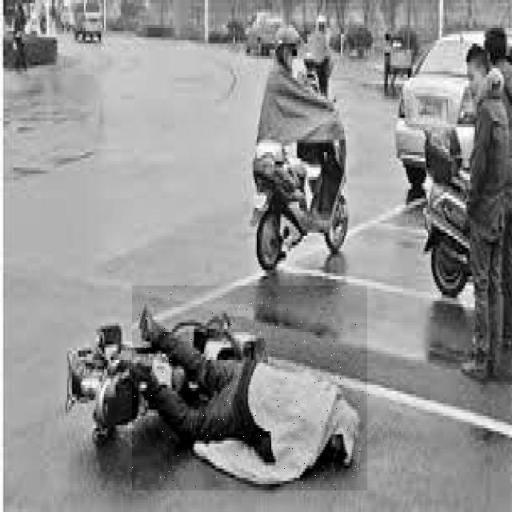Fall: (133, 286, 370, 491)
